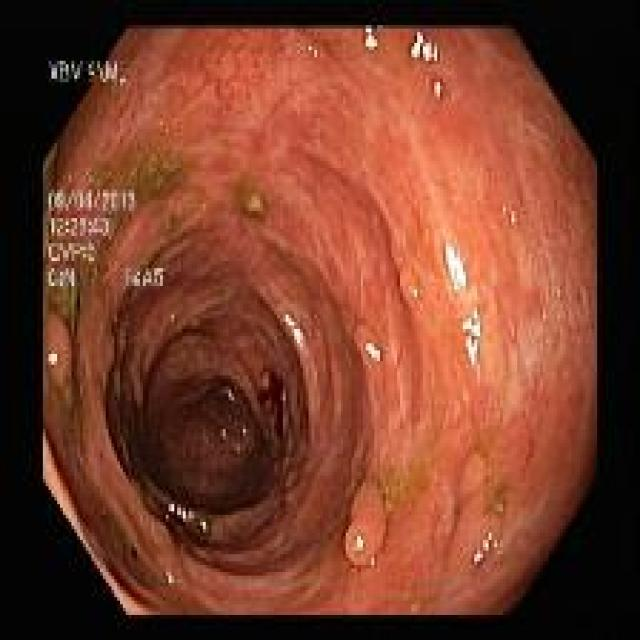ulcerative-colitis: (42, 30, 596, 614)
